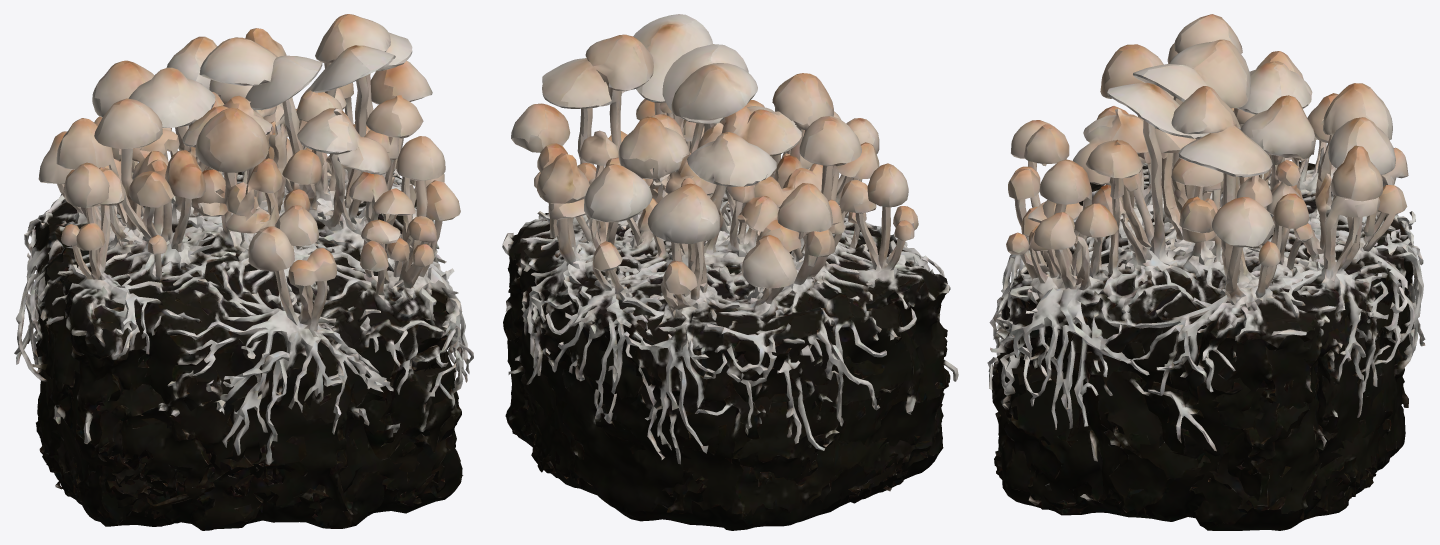
The picture shows the model from 3 angles, left to right: view 1: azimuth 30°, elevation 25°; view 2: azimuth 150°, elevation 25°; view 3: azimuth 270°, elevation 25°; orthographic projection. The views are drawn at different scales.
Visible parts, largest first — view 1: geometry_0; view 2: geometry_0; view 3: geometry_0.
Part boxes in pixels (x1,y1,x2,y2): geometry_0: (14,14,473,530); geometry_0: (502,14,958,530); geometry_0: (987,14,1425,530).
Size of the model in its own units: 0.25 by 0.2475 by 0.235.
Materials: 1 (1 with a texture image).
